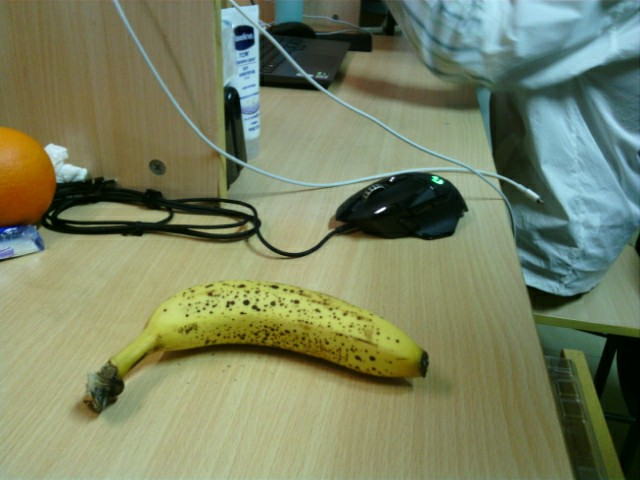normal_banana: (85, 281, 430, 418)
normal_orange: (1, 125, 56, 222)
